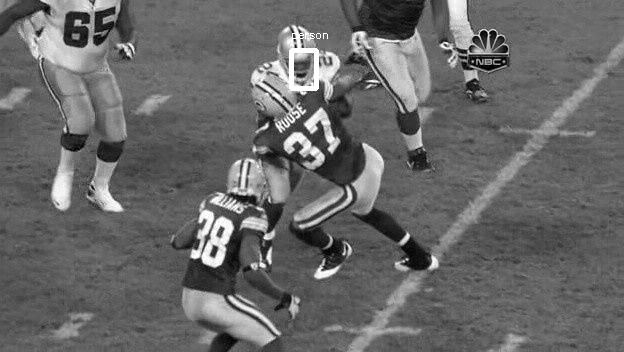person: (281, 36, 318, 84), (280, 36, 317, 84), (282, 36, 319, 84), (281, 35, 318, 83), (281, 37, 318, 85)
target_negative: (465, 15, 545, 218), (291, 328, 566, 339), (61, 322, 502, 326), (524, 121, 531, 290), (338, 73, 353, 149), (570, 105, 611, 110)
